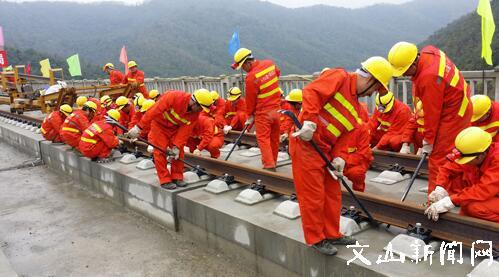helmet: (353, 55, 395, 96), (384, 39, 422, 78), (451, 125, 494, 159), (464, 93, 496, 127), (187, 89, 218, 115), (372, 87, 398, 117), (230, 44, 256, 71), (285, 85, 309, 111), (78, 100, 98, 121), (226, 85, 243, 108), (101, 108, 123, 125), (54, 102, 74, 120), (114, 95, 132, 112), (125, 58, 142, 75), (99, 62, 118, 77), (147, 87, 162, 103)
